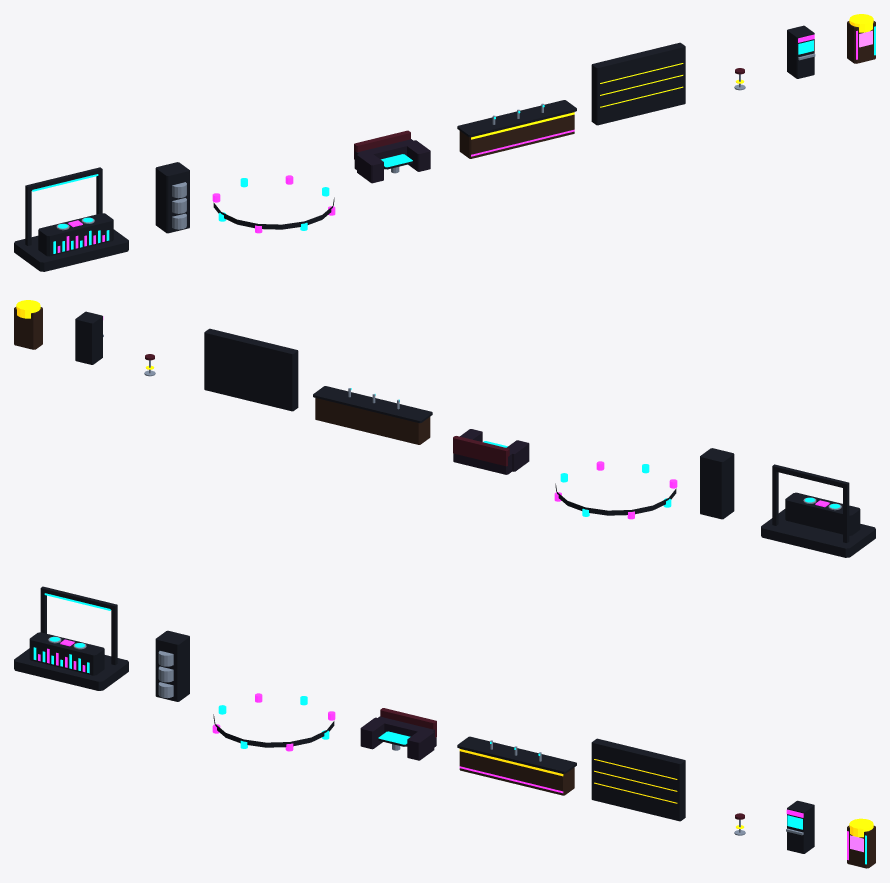
File: interior_props.glb
3 views of the same model, one above another, from view 1: azimuth 30°, elevation 25°; view 2: azimuth 150°, elevation 25°; view 3: azimuth 330°, elevation 25° (orthographic).
Visible parts, largest first — view 1: bottle_rack, dj_booth, bar_counter, club_table, speaker_stack, arcade_cab, jukebox, laser_rig; view 2: bottle_rack, dj_booth, bar_counter, club_table, speaker_stack, arcade_cab, jukebox, laser_rig; view 3: bottle_rack, dj_booth, bar_counter, club_table, speaker_stack, arcade_cab, jukebox, laser_rig.
Part boxes in pixels (left/top/right/bottom): bottle_rack: left=591, top=42, right=685, bottom=125; dj_booth: left=14, top=167, right=128, bottom=271; bar_counter: left=457, top=100, right=576, bottom=158; club_table: left=354, top=130, right=430, bottom=183; speaker_stack: left=155, top=162, right=189, bottom=233; arcade_cab: left=787, top=25, right=815, bottom=78; jukebox: left=847, top=14, right=875, bottom=63; laser_rig: left=212, top=175, right=335, bottom=233; bottle_rack: left=204, top=328, right=298, bottom=411; dj_booth: left=761, top=464, right=875, bottom=557; bar_counter: left=313, top=386, right=432, bottom=444; club_table: left=453, top=429, right=529, bottom=474; speaker_stack: left=700, top=448, right=734, bottom=519; arcade_cab: left=75, top=311, right=103, bottom=364; jukebox: left=14, top=300, right=42, bottom=349; laser_rig: left=554, top=461, right=677, bottom=519; bottle_rack: left=591, top=738, right=685, bottom=821; dj_booth: left=14, top=586, right=128, bottom=690; bar_counter: left=457, top=736, right=576, bottom=795; club_table: left=360, top=708, right=436, bottom=760; speaker_stack: left=155, top=630, right=189, bottom=701; arcade_cab: left=786, top=800, right=814, bottom=853; jukebox: left=847, top=818, right=875, bottom=868; laser_rig: left=212, top=693, right=335, bottom=751.
Size of the model in its own units: 41.74 by 3.5 by 5.4.
